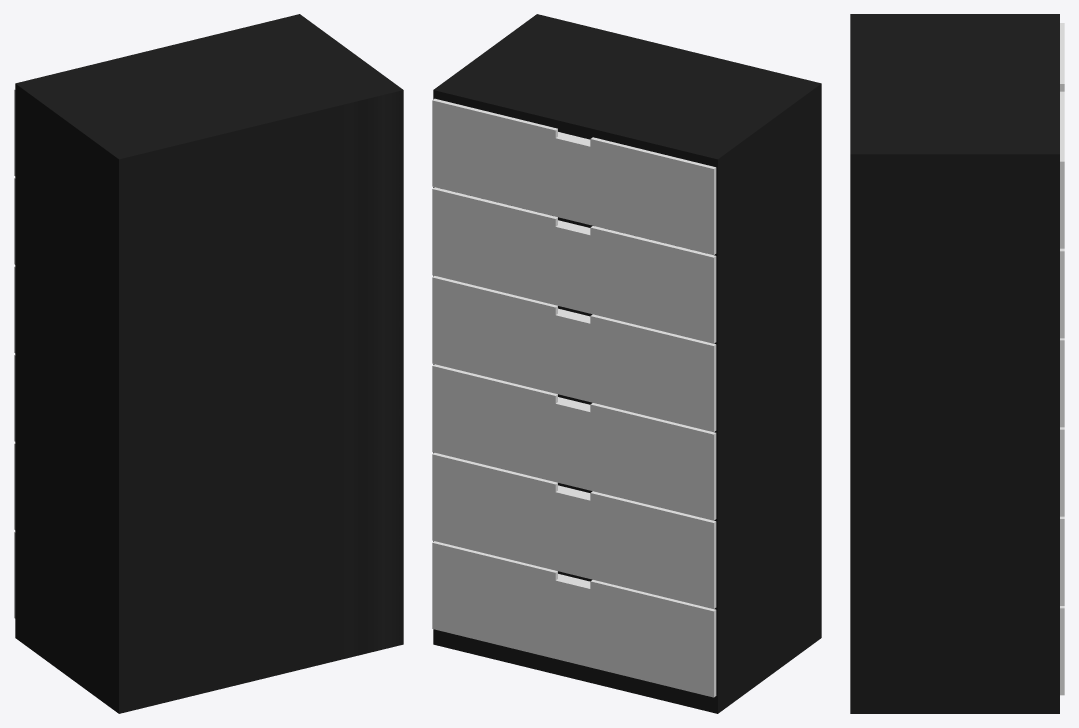
File: Drawer41.glb
The picture shows the model from 3 angles, left to right: view 1: azimuth 30°, elevation 25°; view 2: azimuth 150°, elevation 25°; view 3: azimuth 270°, elevation 25°; orthographic projection.
Parts seen in each view (by area): view 1: Drawer41_Body; view 2: Drawer41_Body, Drawer41_2, Drawer41_1, Drawer41_5, Drawer41_4, Drawer41_3, Drawer41_6; view 3: Drawer41_Body, Drawer41_1, Drawer41_2, Drawer41_3, Drawer41_4, Drawer41_5, Drawer41_6.
Boxes of the visible parts, x1,y1,x2,y2 form: Drawer41_Body: (15,14,403,713); Drawer41_Body: (433,14,821,713); Drawer41_2: (432,187,716,343); Drawer41_1: (432,98,716,255); Drawer41_5: (432,452,716,608); Drawer41_4: (432,364,716,520); Drawer41_3: (432,275,716,432); Drawer41_6: (432,541,716,697); Drawer41_Body: (850,14,1059,713); Drawer41_1: (1060,23,1064,248); Drawer41_2: (1060,248,1064,338); Drawer41_3: (1060,338,1064,427); Drawer41_4: (1060,427,1064,516); Drawer41_5: (1060,516,1064,605); Drawer41_6: (1060,606,1064,695).
Bounding box in the file's own units: 1.04 × 1.93 × 0.6717.
Materials: 1 (1 with a texture image).
